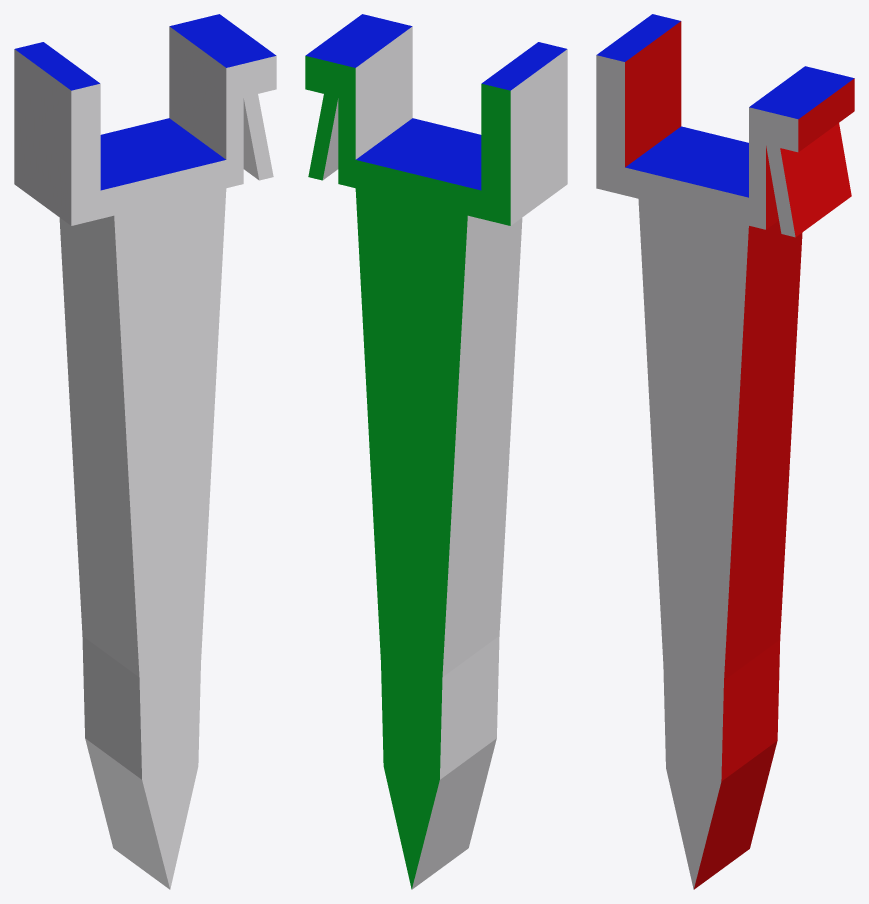
File: Arrow.fbx
3 renders of one model, left to right at view 1: azimuth 30°, elevation 25°; view 2: azimuth 150°, elevation 25°; view 3: azimuth 330°, elevation 25°, orthographic.
Visible parts, largest first — view 1: SwordArrow; view 2: SwordArrow; view 3: SwordArrow.
Boxes of the visible parts, x1=… form: SwordArrow: x1=14, y1=14, x2=276, y2=889; SwordArrow: x1=305, y1=14, x2=567, y2=889; SwordArrow: x1=596, y1=14, x2=854, y2=889.
Size of the model in its own units: 57.06 by 219 by 27.47.
